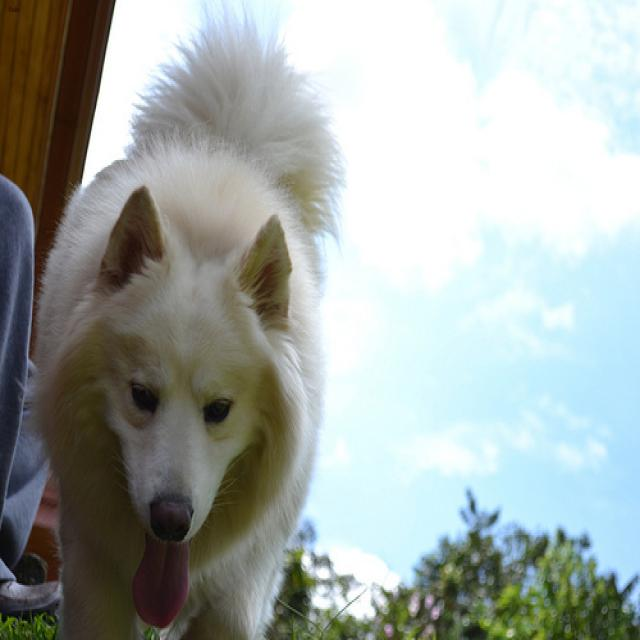dog-samoyed: (18, 3, 357, 637)
